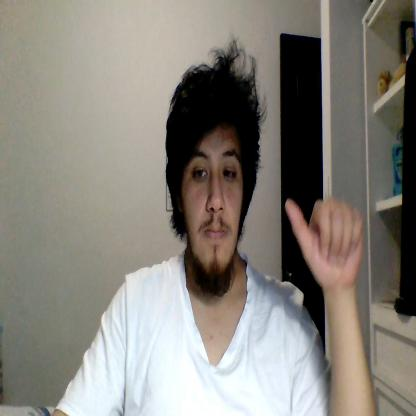A: (285, 198, 362, 286)
